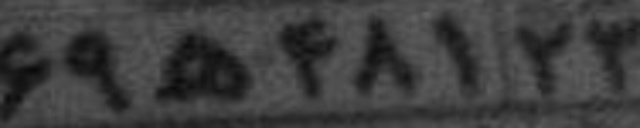1: (435, 12, 482, 90)
2: (517, 19, 572, 96)
3: (586, 16, 637, 91)
4: (279, 18, 339, 98)
6: (1, 28, 52, 122)
8: (350, 17, 416, 91)
9: (65, 29, 132, 110)
he: (147, 30, 255, 101)
